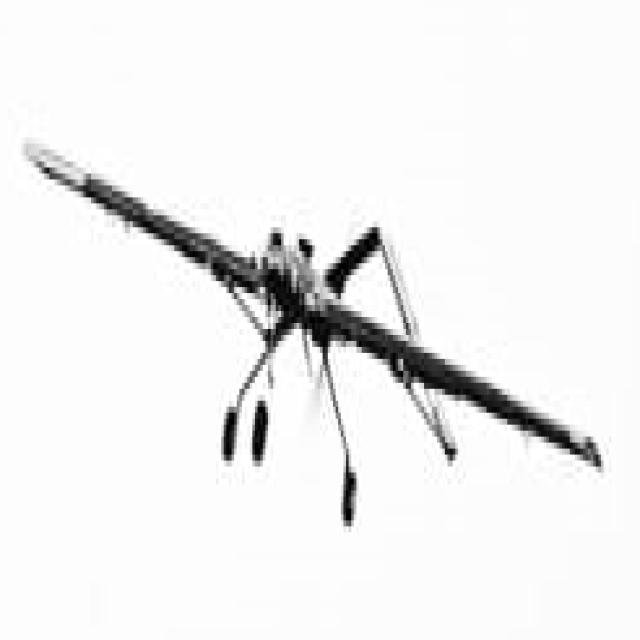iha: (6, 150, 601, 461), (252, 401, 259, 454)
